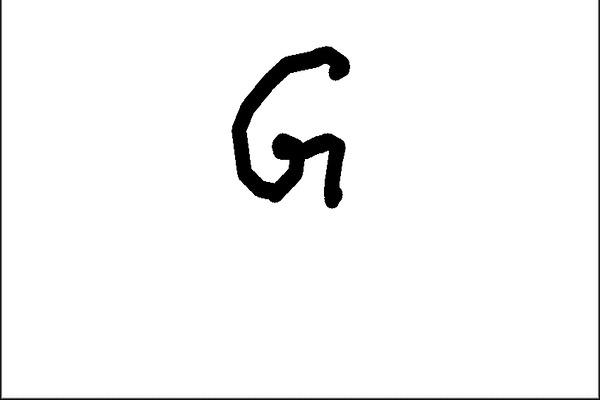G: (226, 38, 356, 213)
